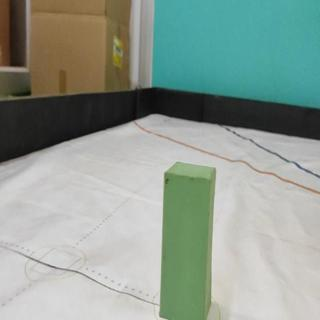greenbox: (159, 159, 216, 320)
